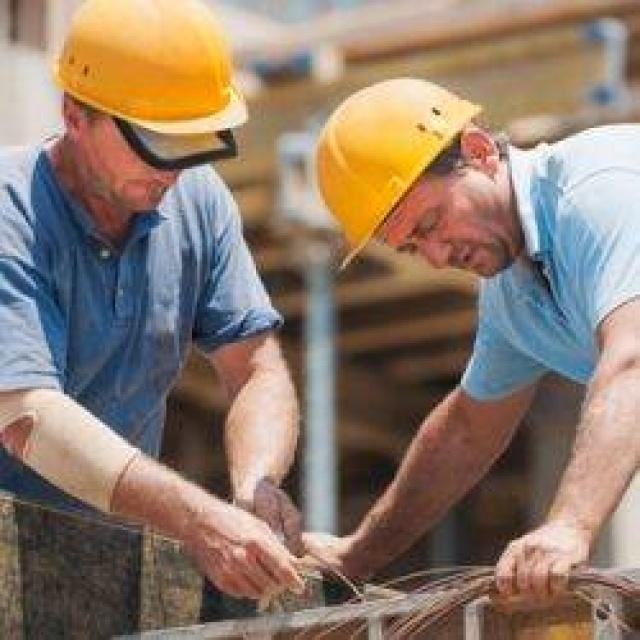helmet: (310, 106, 517, 386), (49, 4, 251, 287)
